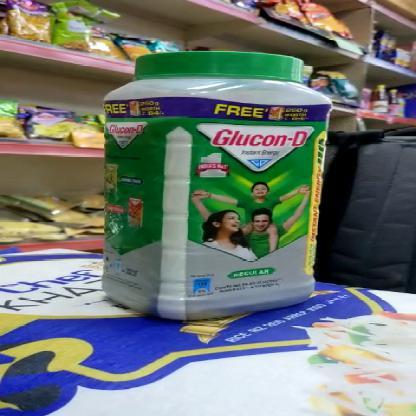Glucon D Regular 2-KG: (92, 47, 312, 316)
